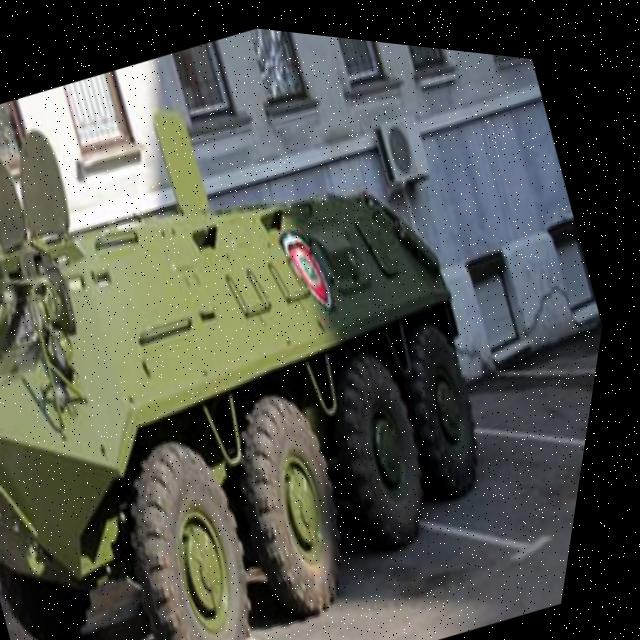MIL_APC: (0, 12, 632, 640)
